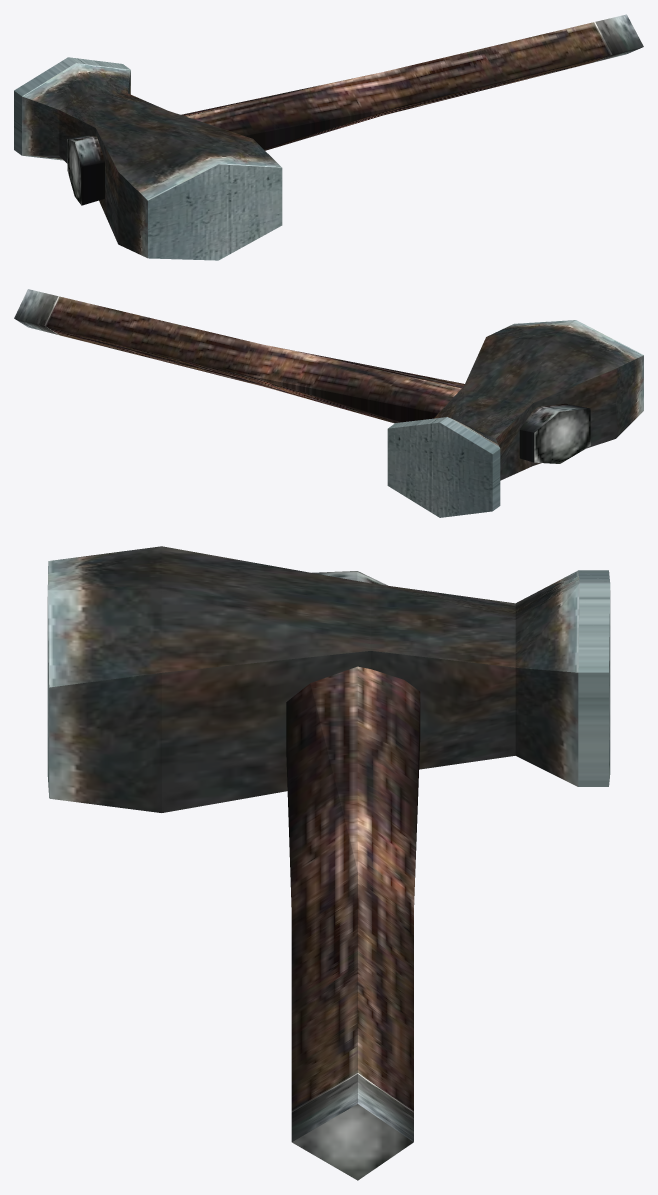
File: ITMI_HAMMER.glb
The picture shows the model from 3 angles, top to bottom: view 1: azimuth 30°, elevation 25°; view 2: azimuth 150°, elevation 25°; view 3: azimuth 270°, elevation 25°; orthographic projection. The views are drawn at different scales.
Visible parts, largest first — view 1: ITMI_HAMMER; view 2: ITMI_HAMMER; view 3: ITMI_HAMMER.
Part boxes in pixels (x1,y1,x2,y2): ITMI_HAMMER: (14,14,643,260); ITMI_HAMMER: (14,289,643,517); ITMI_HAMMER: (47,546,610,1180).
Bounding box in the file's own units: 0.3735 × 0.0626 × 0.1672.
2 materials, 2 textured.
